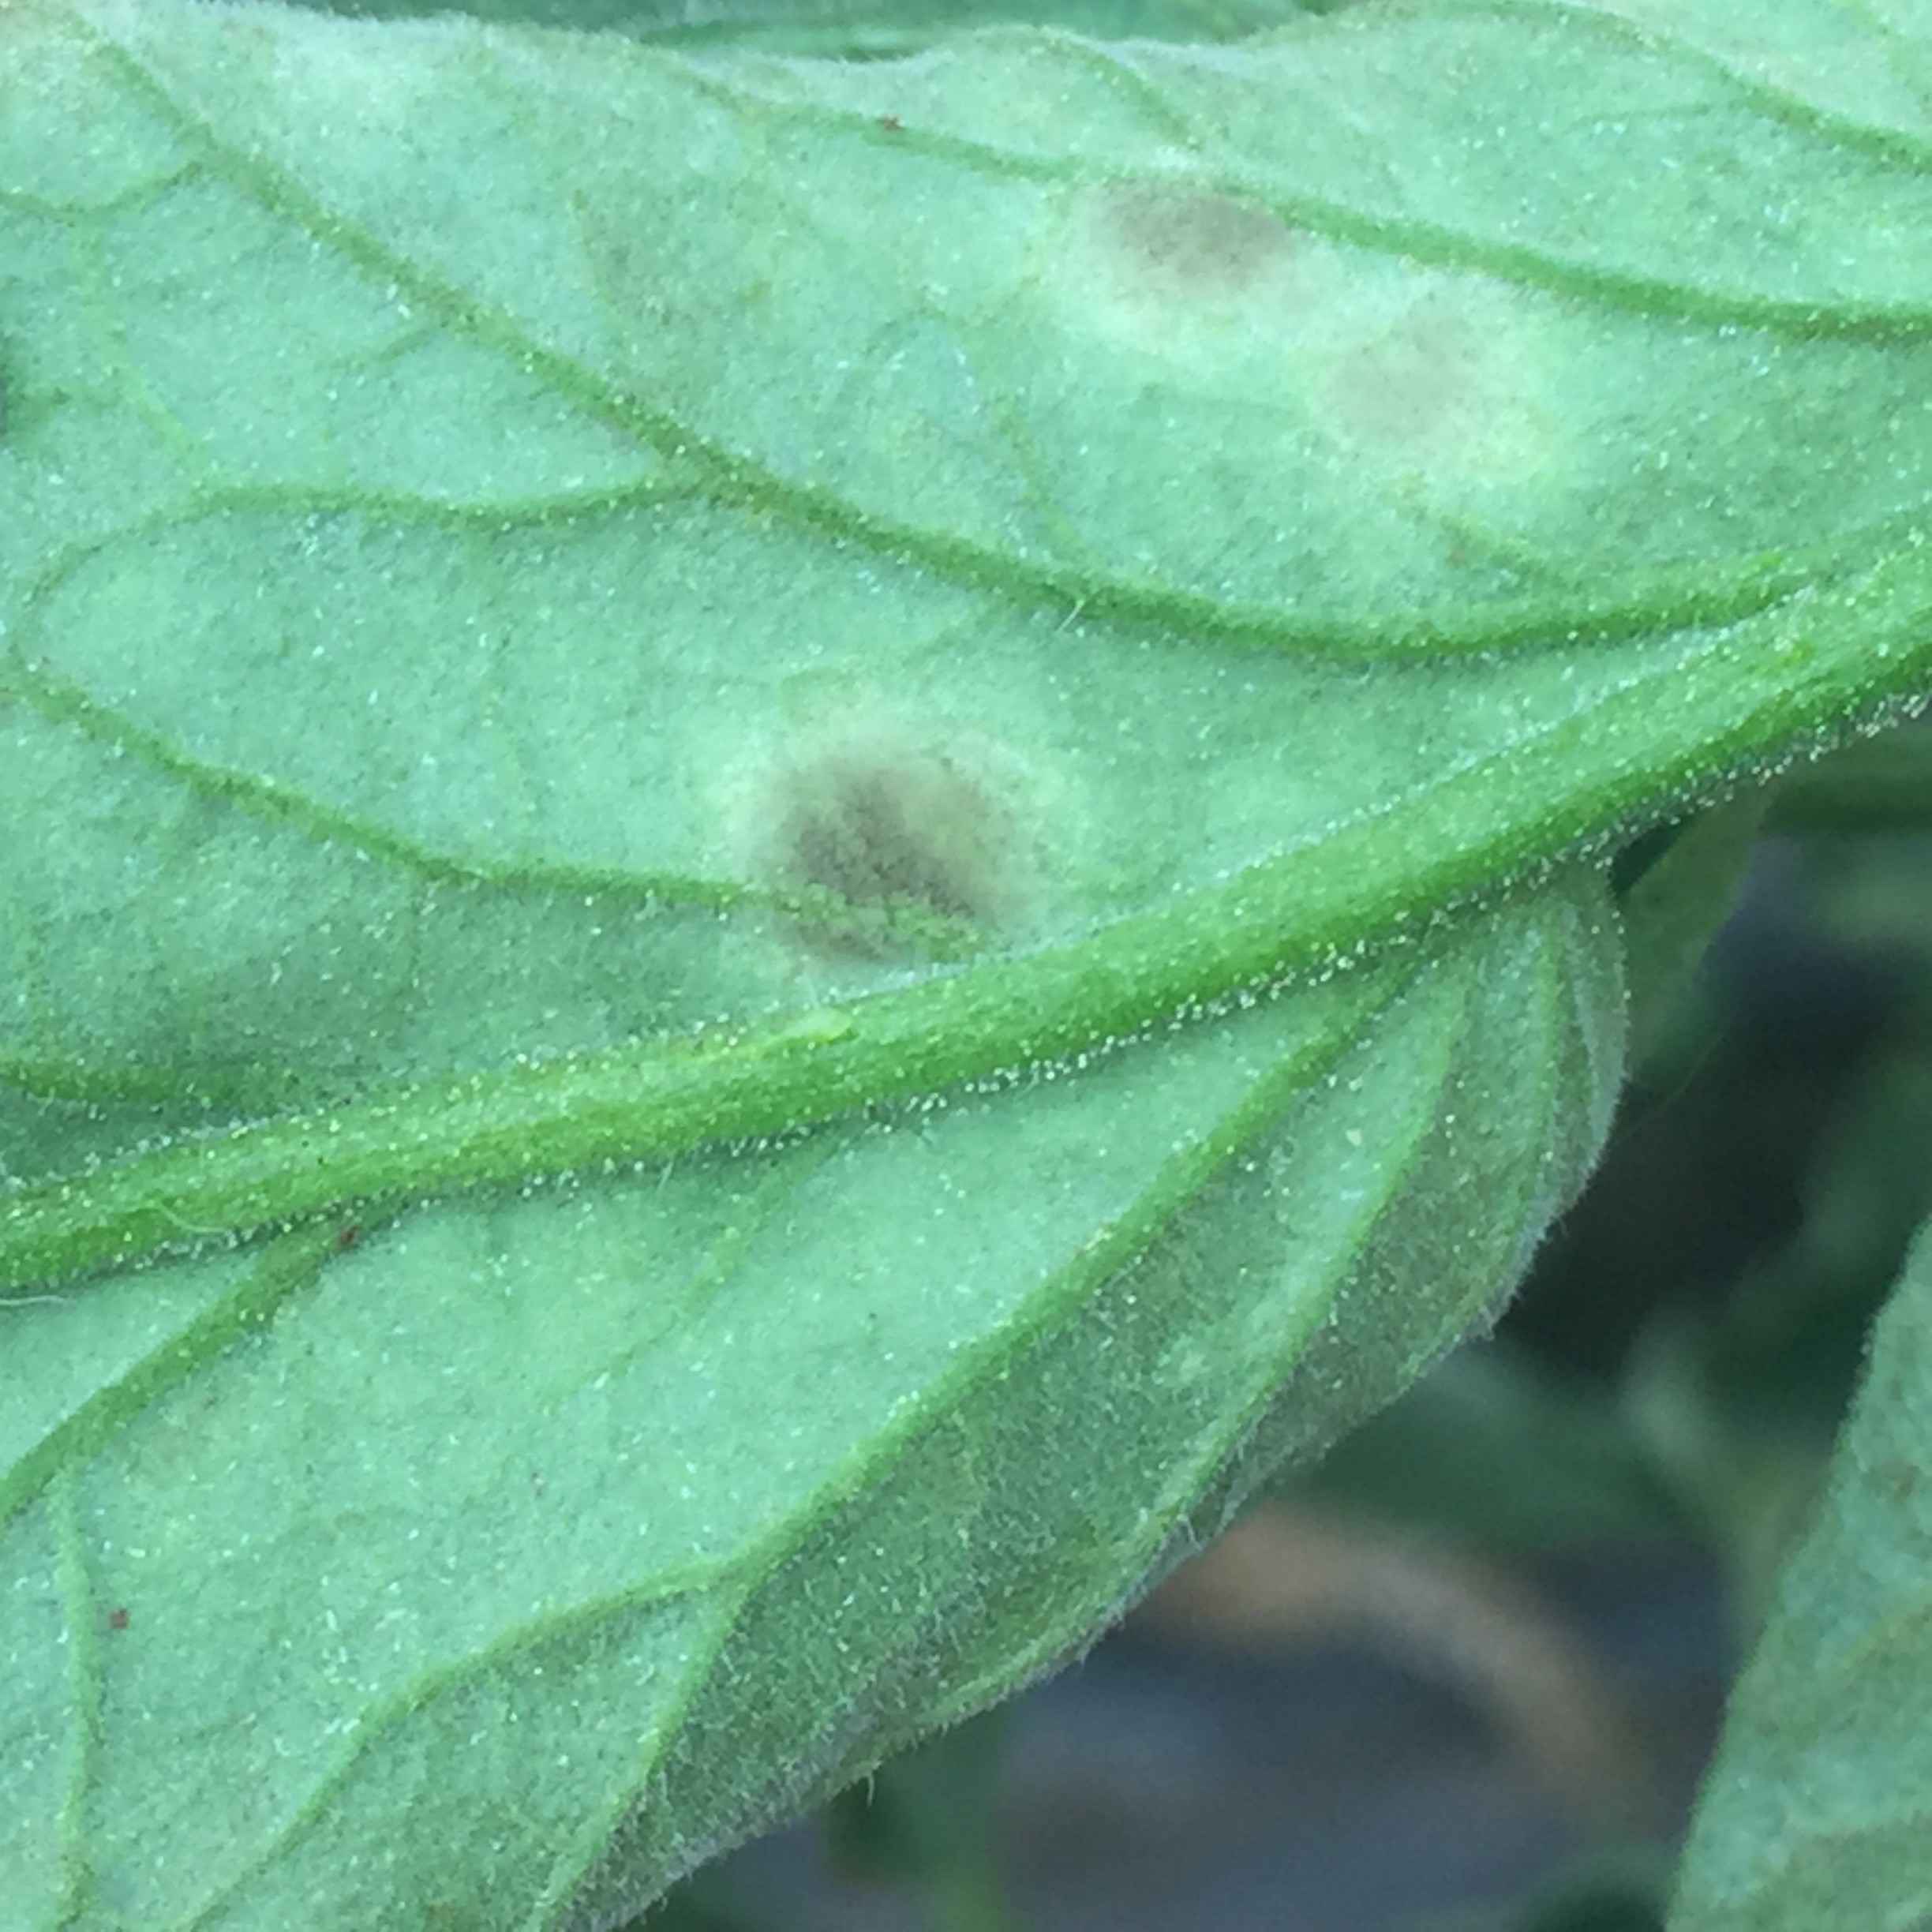negra: (1030, 126, 1573, 513), (662, 658, 1145, 1026)
